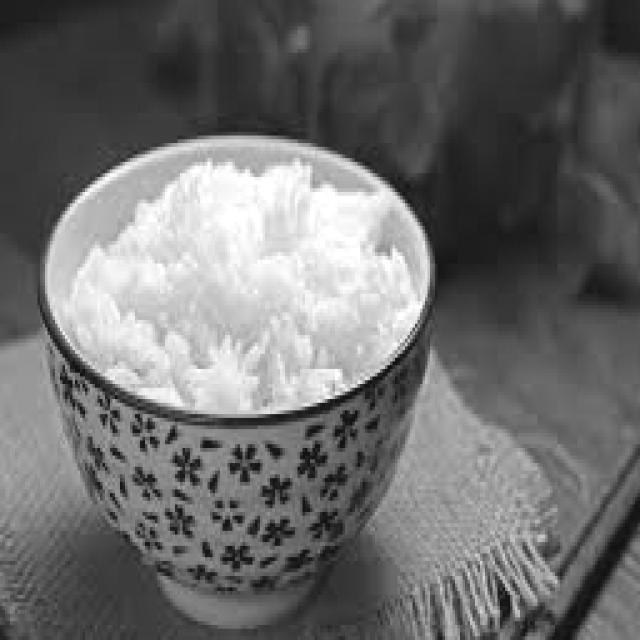nasi: (62, 148, 430, 422)
